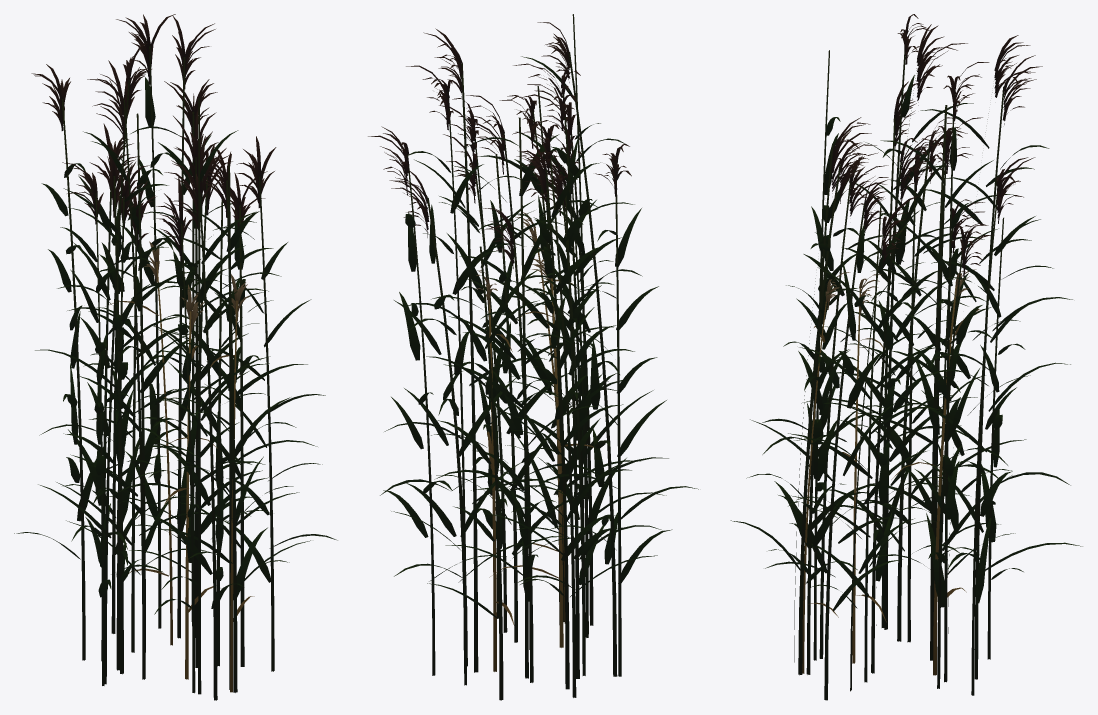
File: SM_Reed_A.fbx
3 renders of one model, left to right at view 1: azimuth 30°, elevation 25°; view 2: azimuth 150°, elevation 25°; view 3: azimuth 270°, elevation 25°, orthographic. The views are drawn at different scales.
Visible parts, largest first — view 1: SM_Reed_A; view 2: SM_Reed_A; view 3: SM_Reed_A.
Part boxes in pixels (x1,y1,x2,y2): SM_Reed_A: [14, 14, 337, 700]; SM_Reed_A: [368, 14, 698, 700]; SM_Reed_A: [730, 14, 1082, 700].
Bounding box in the file's own units: 122 × 140 × 278.
